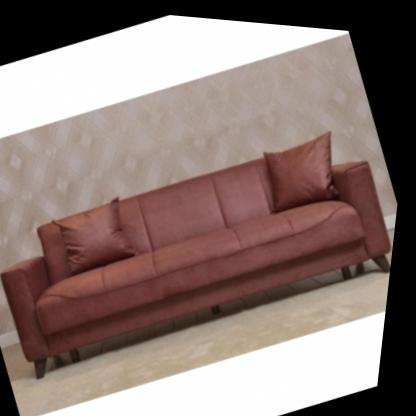Sofa: (0, 96, 408, 405)
